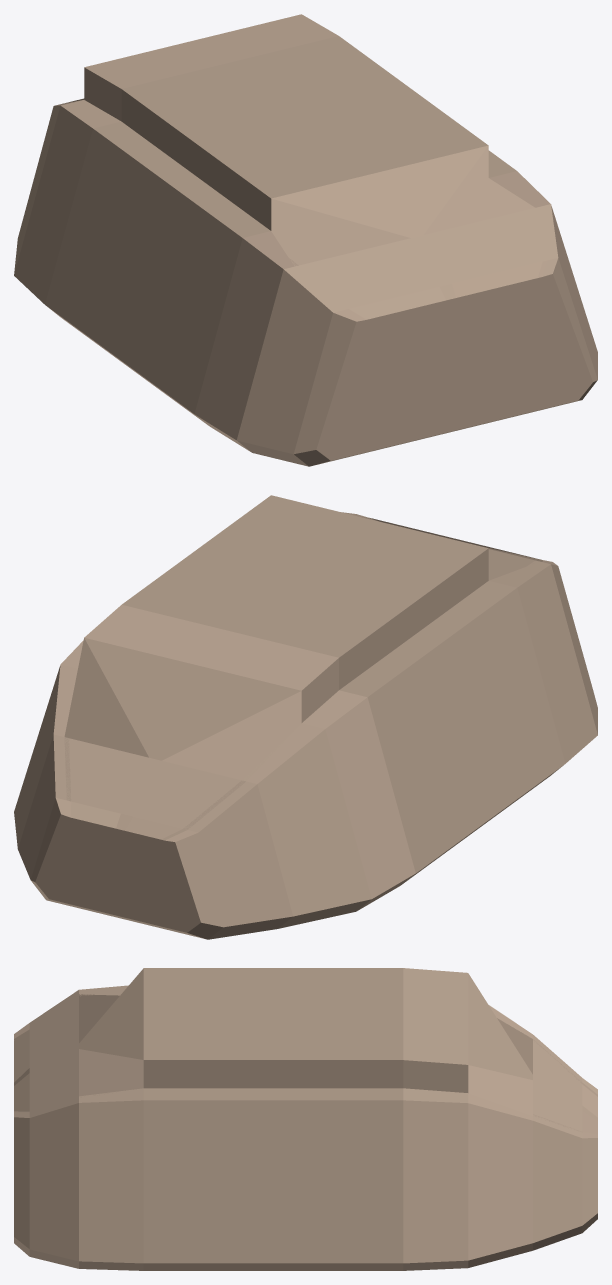
File: orrin_heavy_a.glb
3 renders of one model, top to bottom at view 1: azimuth 30°, elevation 25°; view 2: azimuth 150°, elevation 25°; view 3: azimuth 270°, elevation 25°, orthographic. The views are drawn at different scales.
Parts seen in each view (by area): view 1: orrin_heavy_a; view 2: orrin_heavy_a; view 3: orrin_heavy_a.
Part boxes in pixels (left/top/right/bottom): orrin_heavy_a: left=14, top=14, right=597, bottom=466; orrin_heavy_a: left=14, top=495, right=597, bottom=939; orrin_heavy_a: left=14, top=968, right=597, bottom=1270.
Size of the model in its own units: 4.9 by 2.69 by 7.7.
